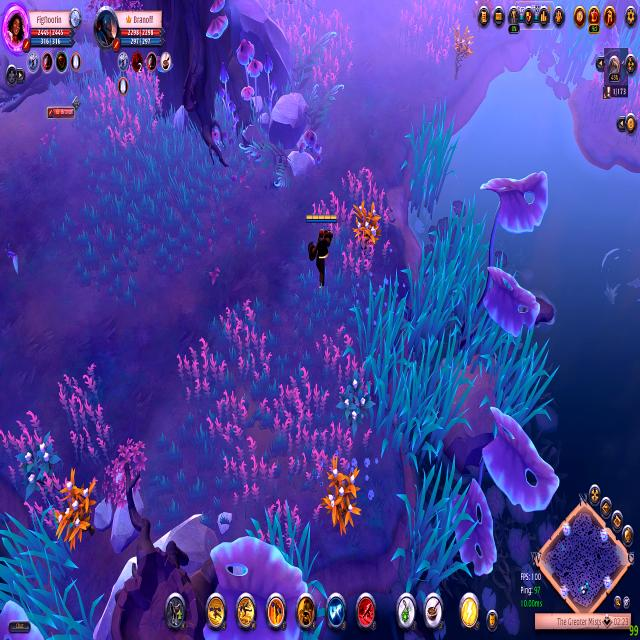hide: (312, 446, 366, 538), (52, 463, 103, 548), (13, 428, 61, 501), (334, 363, 374, 439), (346, 193, 386, 253), (450, 22, 474, 84), (471, 0, 499, 38)
red: (301, 198, 342, 288), (513, 0, 557, 32)
